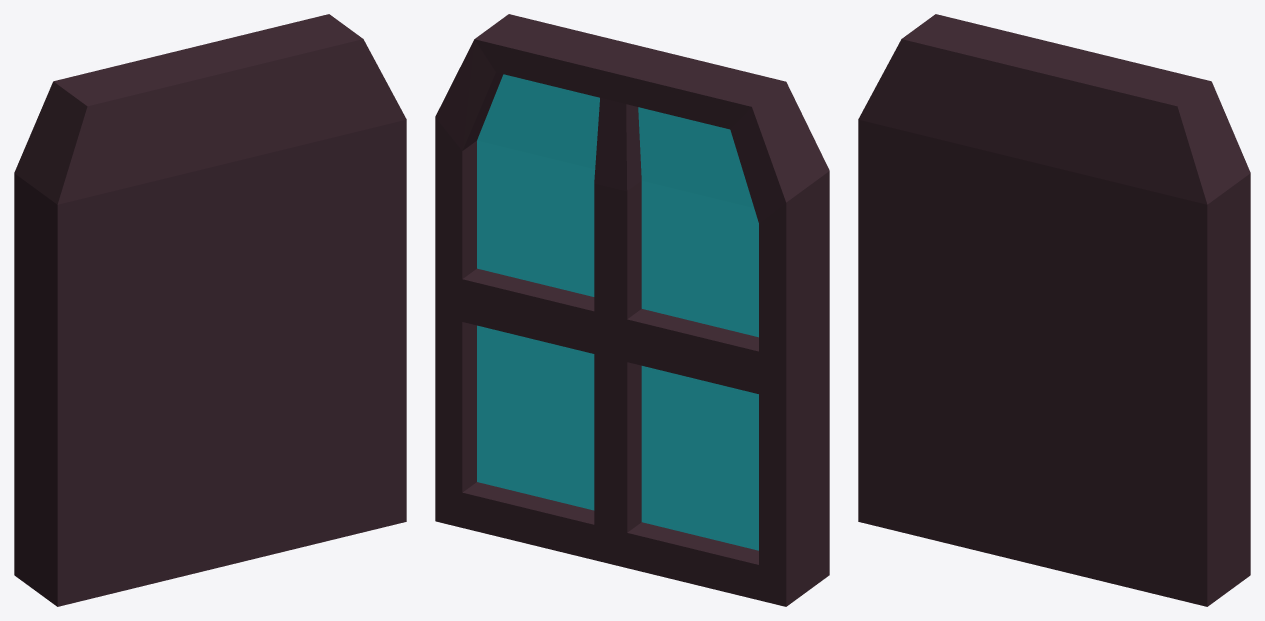
Rendered from window_2.fbx.
3 views of the same model, side by side, from view 1: azimuth 30°, elevation 25°; view 2: azimuth 150°, elevation 25°; view 3: azimuth 330°, elevation 25° (orthographic).
Parts seen in each view (by area): view 1: Cube.016; view 2: Cube.016; view 3: Cube.016.
Part boxes in pixels (x1=…): Cube.016: x1=14, y1=14, x2=406, y2=606; Cube.016: x1=435, y1=14, x2=829, y2=606; Cube.016: x1=858, y1=14, x2=1250, y2=606.
Size of the model in its own units: 0.9337 by 1.24 by 0.2007.
